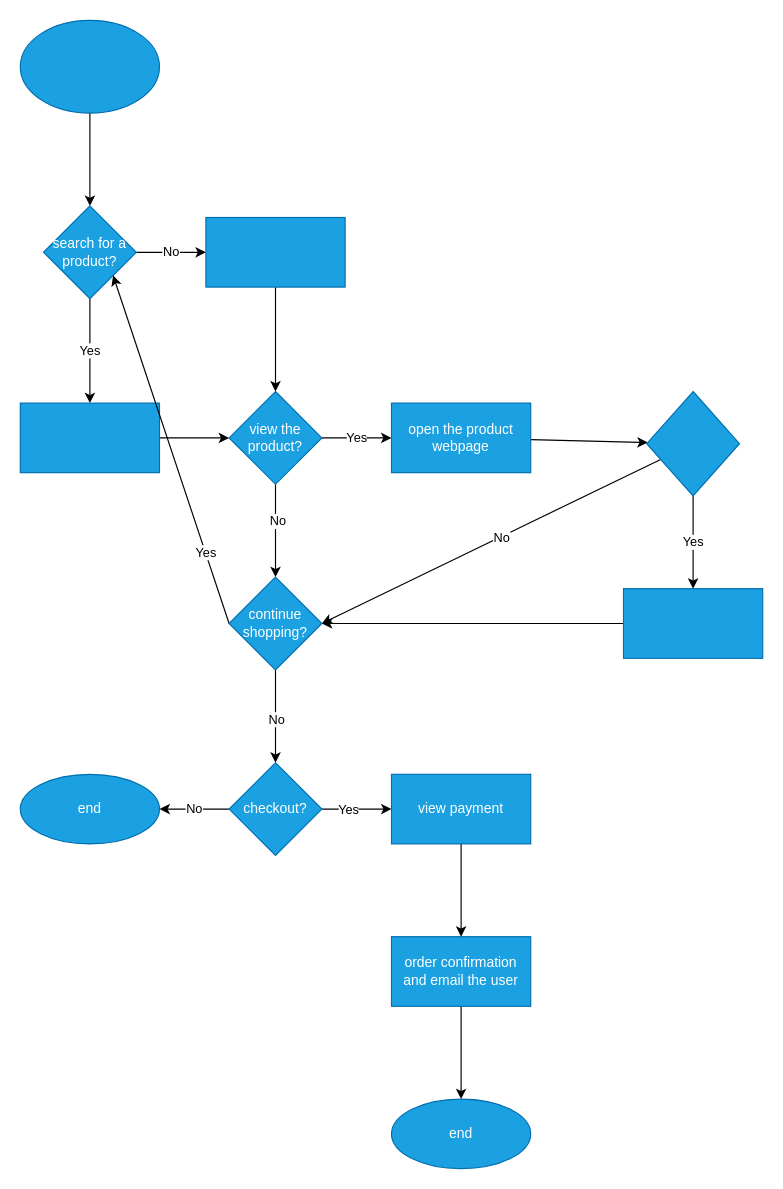
Image size: 783x1189. Some labels were removed from this diagram. The centre of each missing label's shape, as x and y in pixels:
"add to the cart" goes at (x=692, y=623).
"add to the cart?" goes at (x=693, y=443).
"enter" goes at (x=89, y=66).
"provide input to the webiste" goes at (x=89, y=437).
"provide products on home page" goes at (x=275, y=251).
